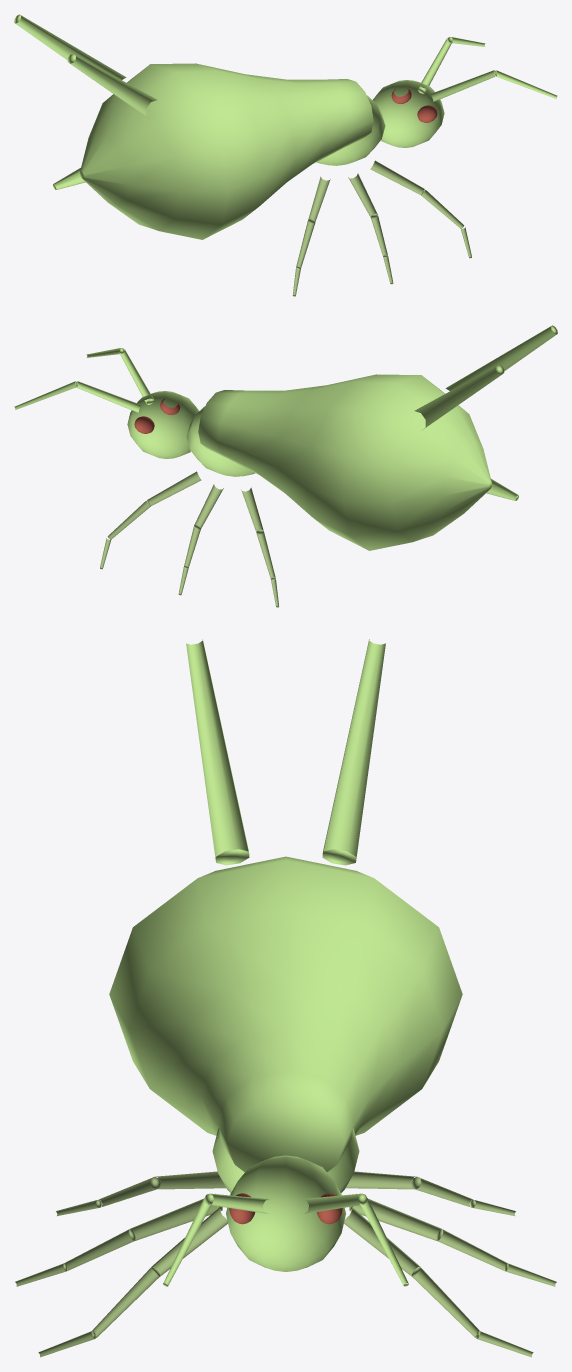
Rendered from aphid_green.glb.
3 views of the same model, one above another, from view 1: azimuth 30°, elevation 25°; view 2: azimuth 150°, elevation 25°; view 3: azimuth 270°, elevation 25° (orthographic). The views are drawn at different scales.
Parts seen in each view (by area): view 1: AbdomenShell, HeadShell, CornicleTubeL, ThoraxShell, CornicleTubeR, ScapeL, CoxaL1, ScapeR, CoxaL2, CoxaL3, FuniculusL, FemurL1; view 2: AbdomenShell, HeadShell, CornicleTubeR, ThoraxShell, CornicleTubeL, ScapeR, CoxaR1, ScapeL, CoxaR2, CoxaR3, FuniculusR, FemurR1; view 3: AbdomenShell, HeadShell, CornicleTubeL, CornicleTubeR, ThoraxShell, CoxaL2, CoxaR2, CoxaL1, CoxaR1, CoxaL3, CoxaR3, FemurL1 (+3 smaller).
Boxes of the visible parts, x1=… form: AbdomenShell: x1=79, y1=63, x2=373, y2=239; HeadShell: x1=373, y1=80, x2=444, y2=147; CornicleTubeL: x1=67, y1=54, x2=157, y2=118; ThoraxShell: x1=316, y1=95, x2=385, y2=165; CornicleTubeR: x1=14, y1=14, x2=126, y2=79; ScapeL: x1=430, y1=70, x2=496, y2=101; CoxaL1: x1=370, y1=160, x2=424, y2=195; ScapeR: x1=417, y1=38, x2=452, y2=93; CoxaL2: x1=348, y1=173, x2=377, y2=218; CoxaL3: x1=308, y1=176, x2=330, y2=223; FuniculusL: x1=494, y1=70, x2=557, y2=98; FemurL1: x1=421, y1=190, x2=464, y2=228; AbdomenShell: x1=198, y1=374, x2=492, y2=550; HeadShell: x1=127, y1=391, x2=198, y2=458; CornicleTubeR: x1=414, y1=365, x2=504, y2=429; ThoraxShell: x1=186, y1=406, x2=255, y2=476; CornicleTubeL: x1=445, y1=325, x2=557, y2=390; ScapeR: x1=75, y1=381, x2=141, y2=412; CoxaR1: x1=147, y1=471, x2=201, y2=506; ScapeL: x1=119, y1=349, x2=154, y2=404; CoxaR2: x1=194, y1=484, x2=223, y2=529; CoxaR3: x1=241, y1=487, x2=263, y2=534; FuniculusR: x1=14, y1=381, x2=77, y2=409; FemurR1: x1=107, y1=501, x2=150, y2=539; AbdomenShell: x1=109, y1=856, x2=462, y2=1171; HeadShell: x1=226, y1=1155, x2=345, y2=1271; CornicleTubeL: x1=186, y1=639, x2=249, y2=865; CornicleTubeR: x1=322, y1=639, x2=385, y2=865; ThoraxShell: x1=212, y1=1128, x2=359, y2=1192; CoxaL2: x1=130, y1=1193, x2=222, y2=1240; CoxaR2: x1=349, y1=1193, x2=441, y2=1240; CoxaL1: x1=151, y1=1207, x2=227, y2=1276; CoxaR1: x1=344, y1=1207, x2=420, y2=1276; CoxaL3: x1=155, y1=1171, x2=225, y2=1189; CoxaR3: x1=346, y1=1171, x2=416, y2=1189; FemurL1: x1=91, y1=1267, x2=159, y2=1337.
Size of the model in its own units: 1 by 0.5089 by 0.5804.
